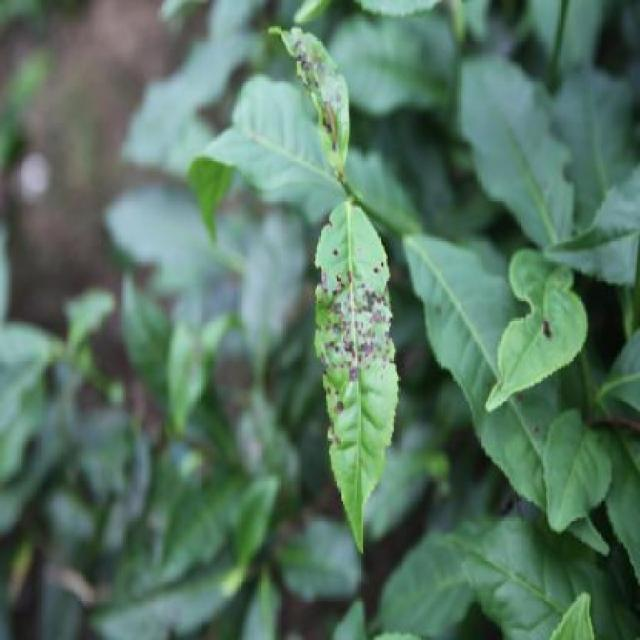Tea Mosquito bug infested leaf: (296, 186, 398, 534), (260, 22, 363, 165)
